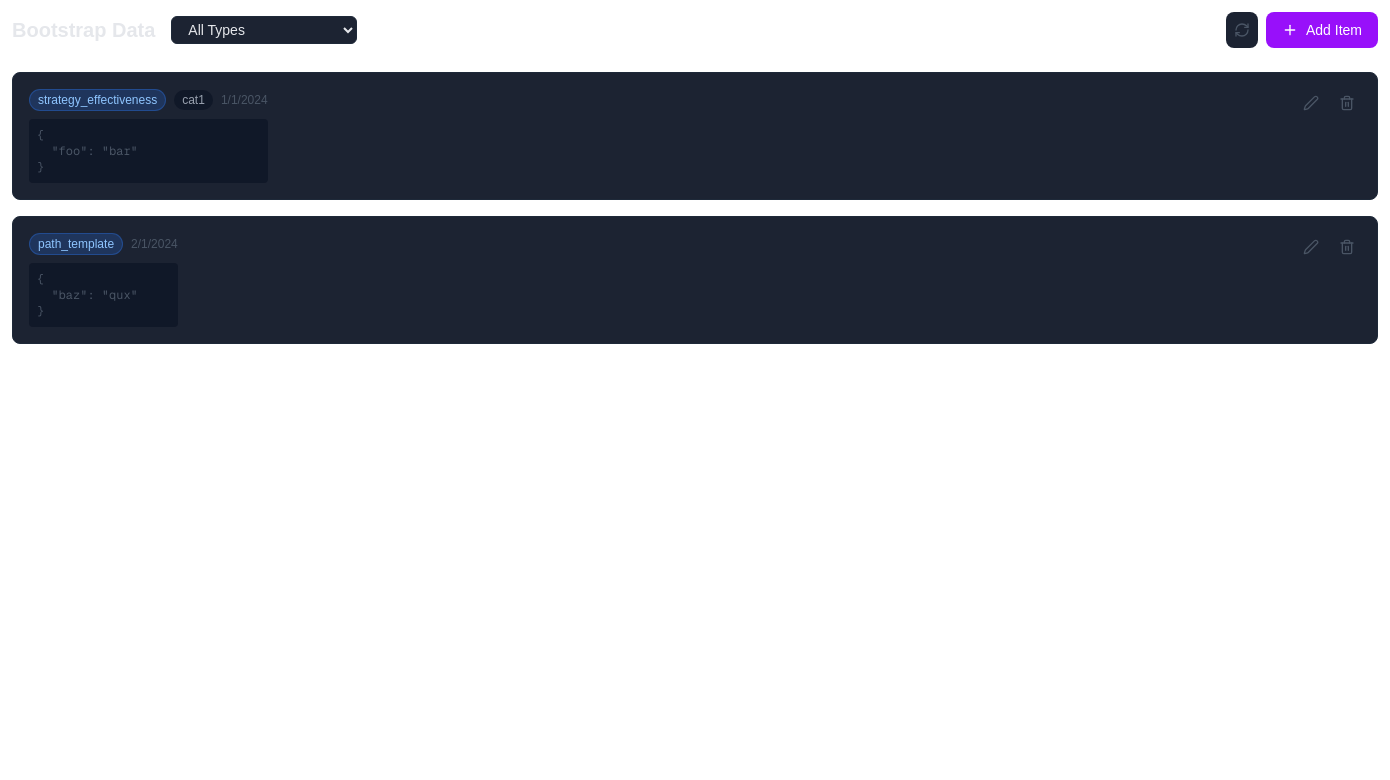
Test case: BootstrapTab › handles cancel edit
expect the text "cat1" is shown: met, box x1=174 y1=90 x2=213 y2=110
Click the button labelled "Add Item" at coordinates (1322, 30), box x1=1266 y1=12 x2=1378 y2=48
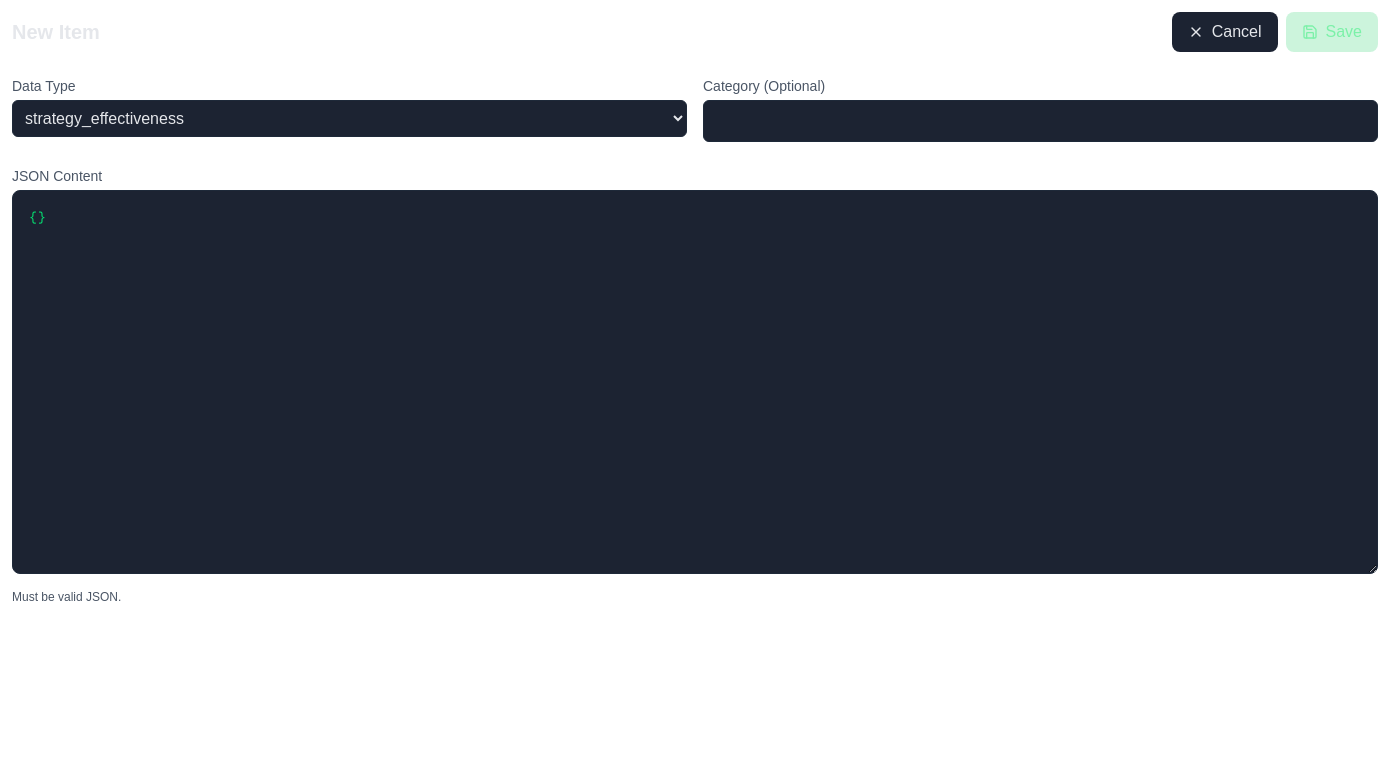
expect the heading "New Item" is shown: met, box x1=12 y1=18 x2=100 y2=46
Click the button labelled "Cancel" at coordinates (1225, 32), box x1=1172 y1=12 x2=1278 y2=52
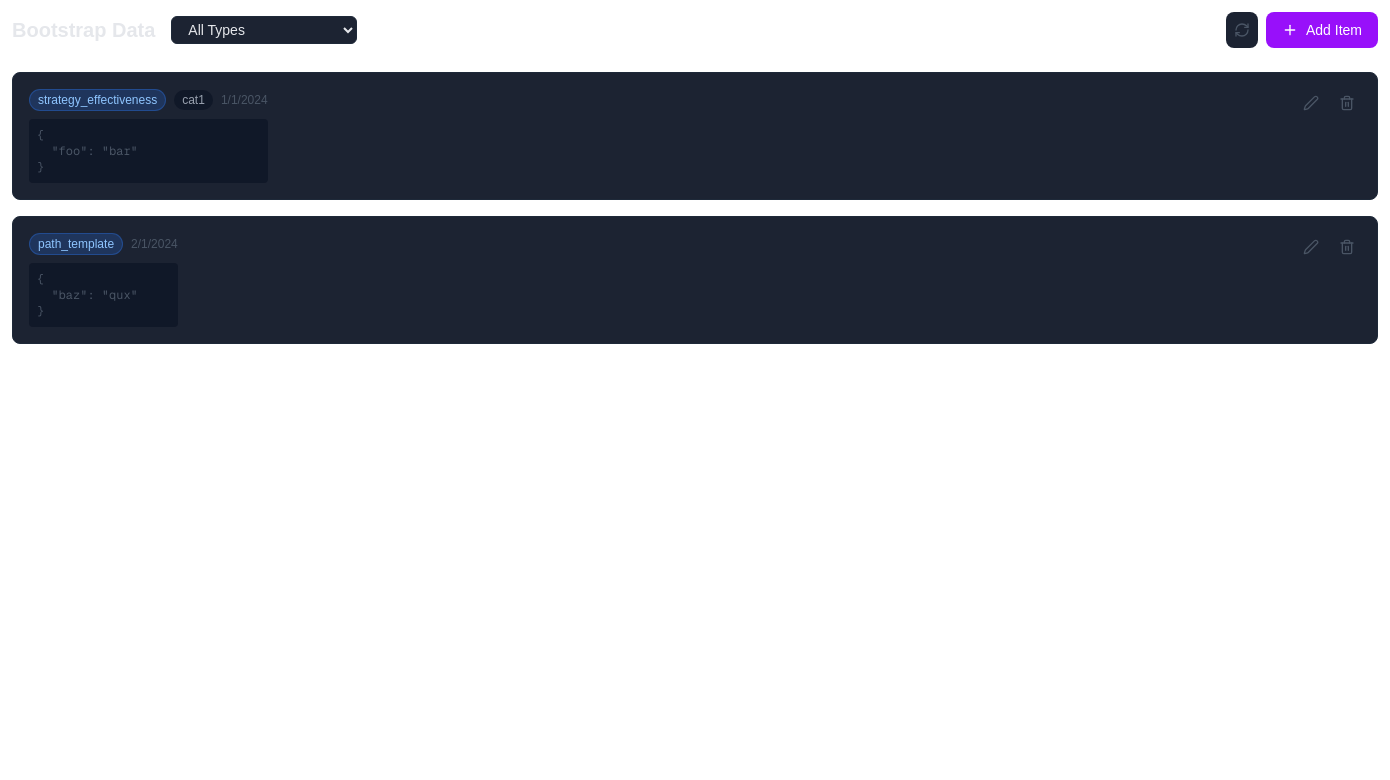
expect the heading "New Item" is gone: met
